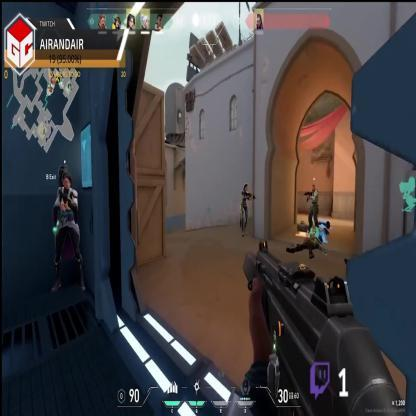enemy: (238, 183, 250, 236)
enemy_head: (244, 183, 249, 192)
